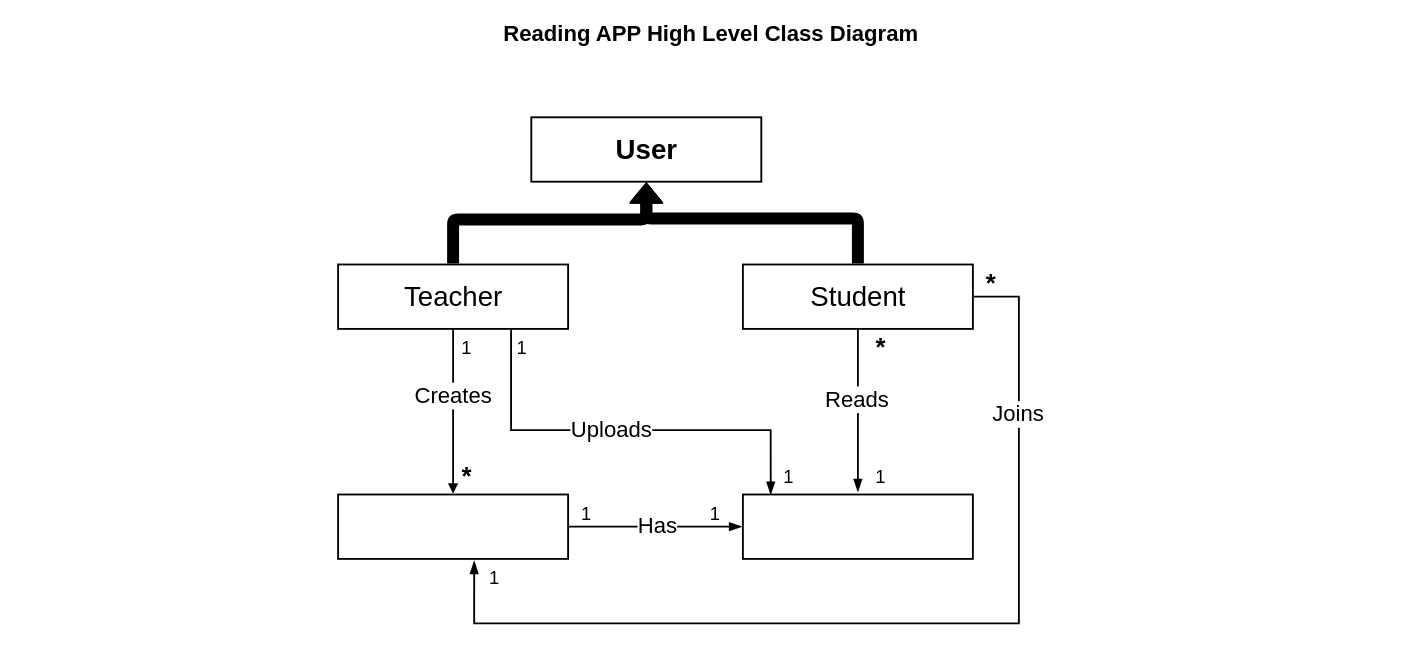
Image size: 1420x650. Some labels were removed from this diagram. Here are the shapes that lost their labels. From the top down, the centre of each, then its label:
At [453,526]: "Class".
At [857,526]: "File".
